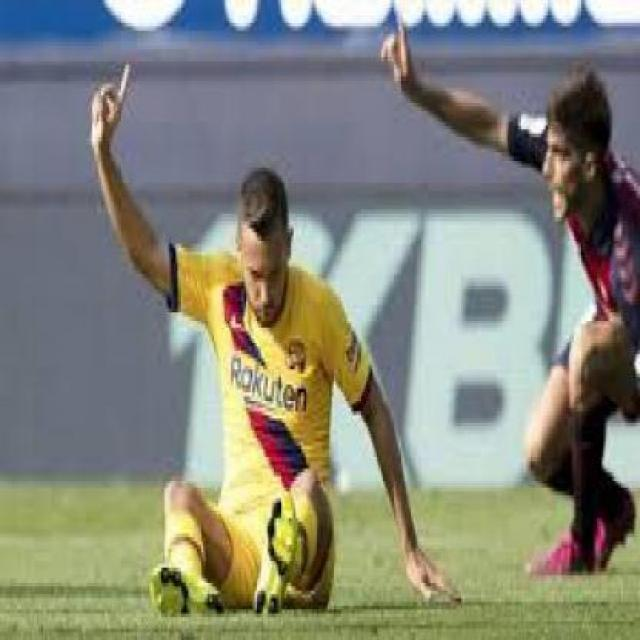fall: (66, 61, 486, 579)
